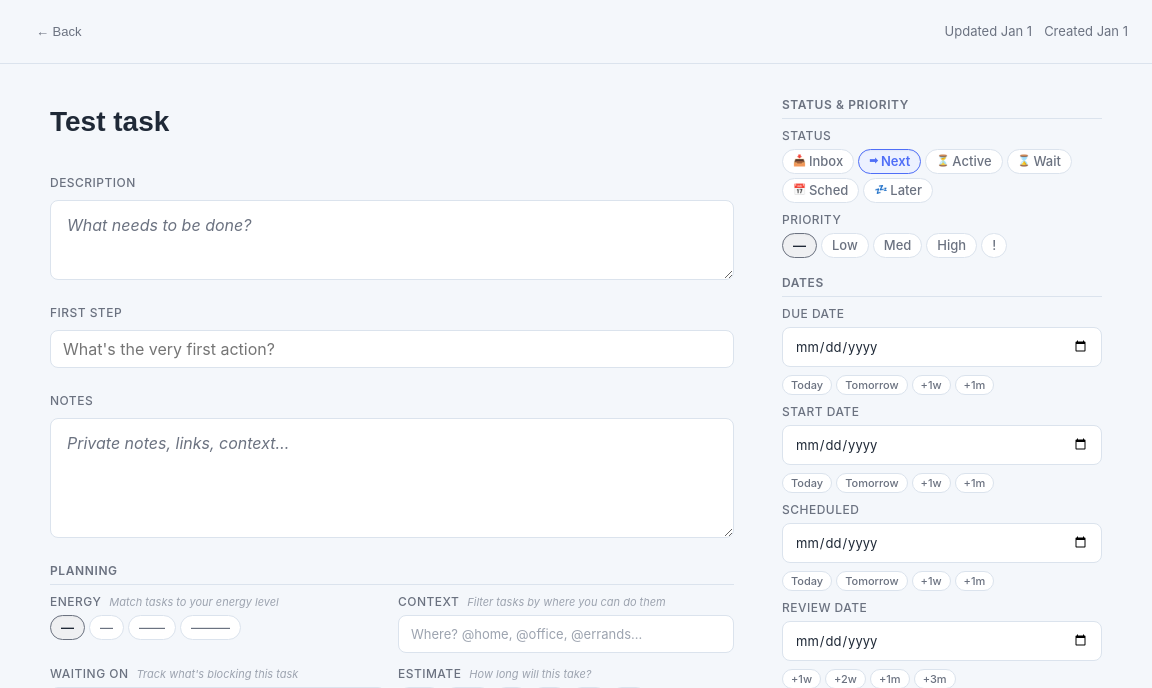
TaskFullPage › shows saving status while save is in progress
Replace the text in the field with placeholder "Task title" with "New title" at point(392, 123), box [50,96,734,150]
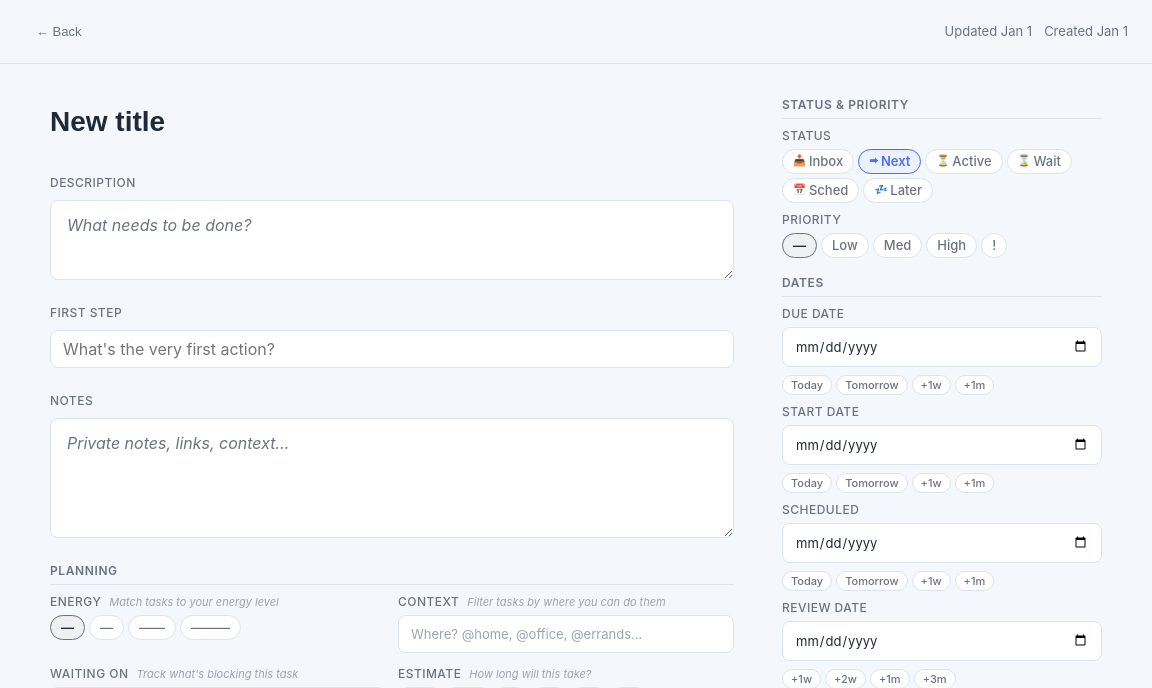
Leave the field with placeholder "Task title", box [50,96,734,150]
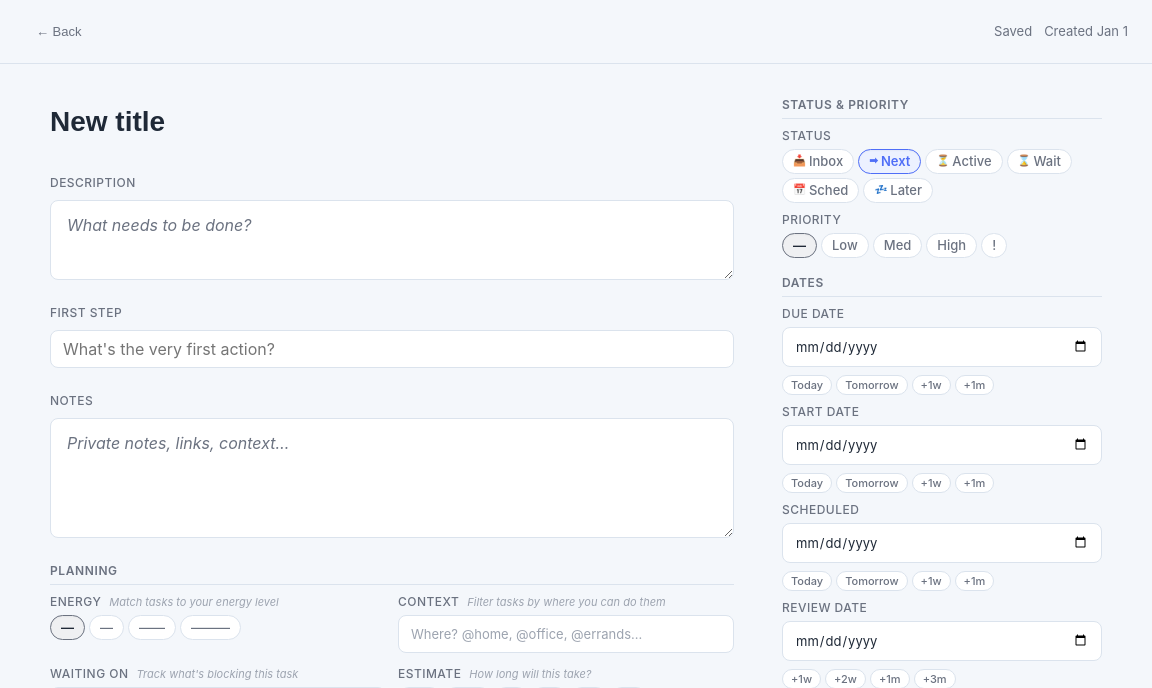
Check: the text "Saved" is shown, box [994,22,1032,41]
